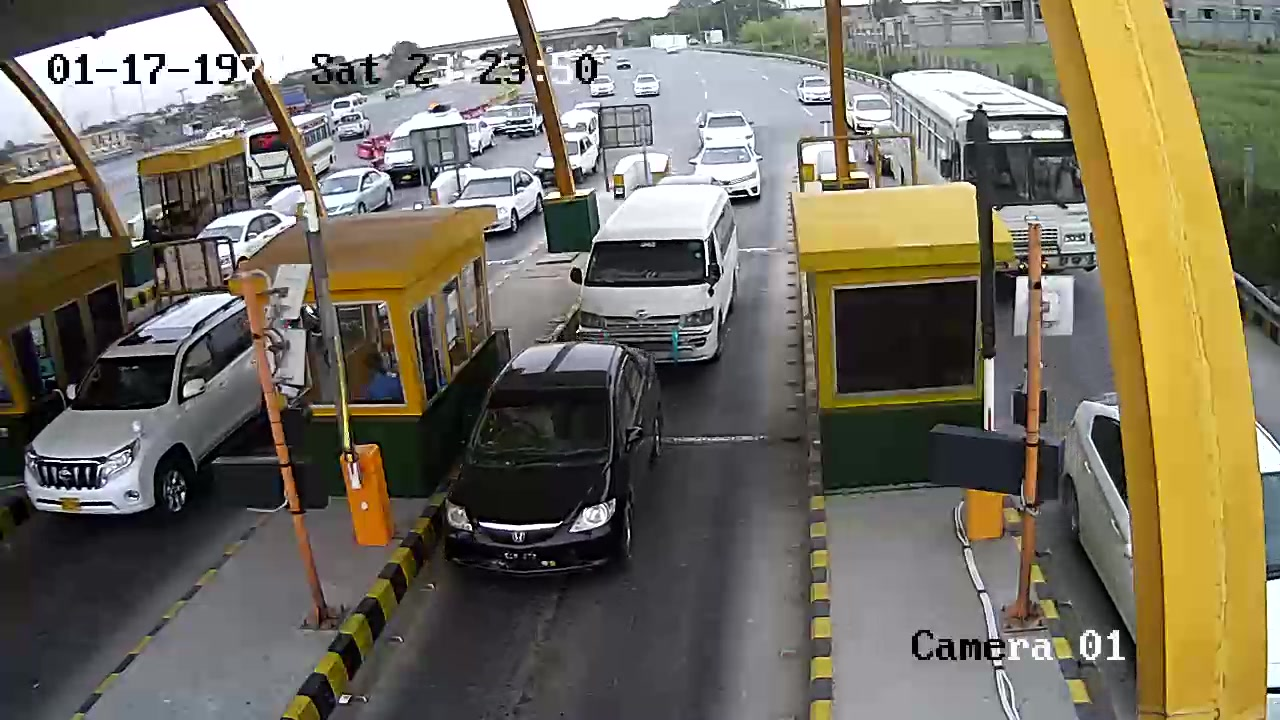F1: (441, 347, 665, 582)
